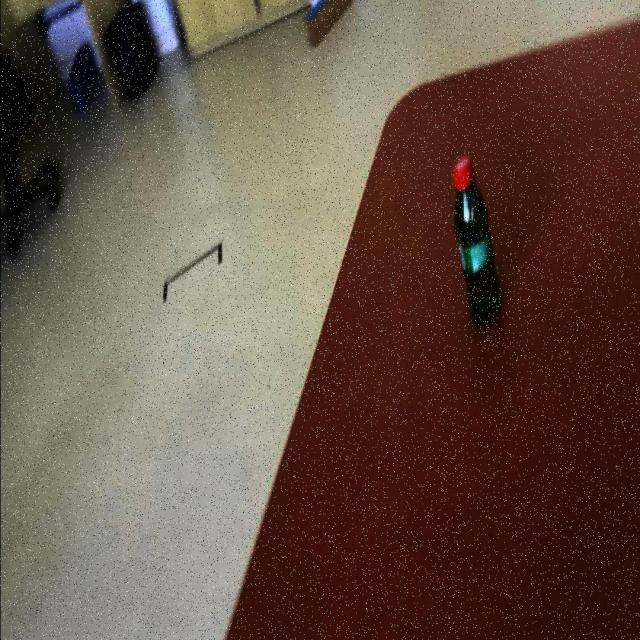Guarana: (452, 155, 504, 330)
